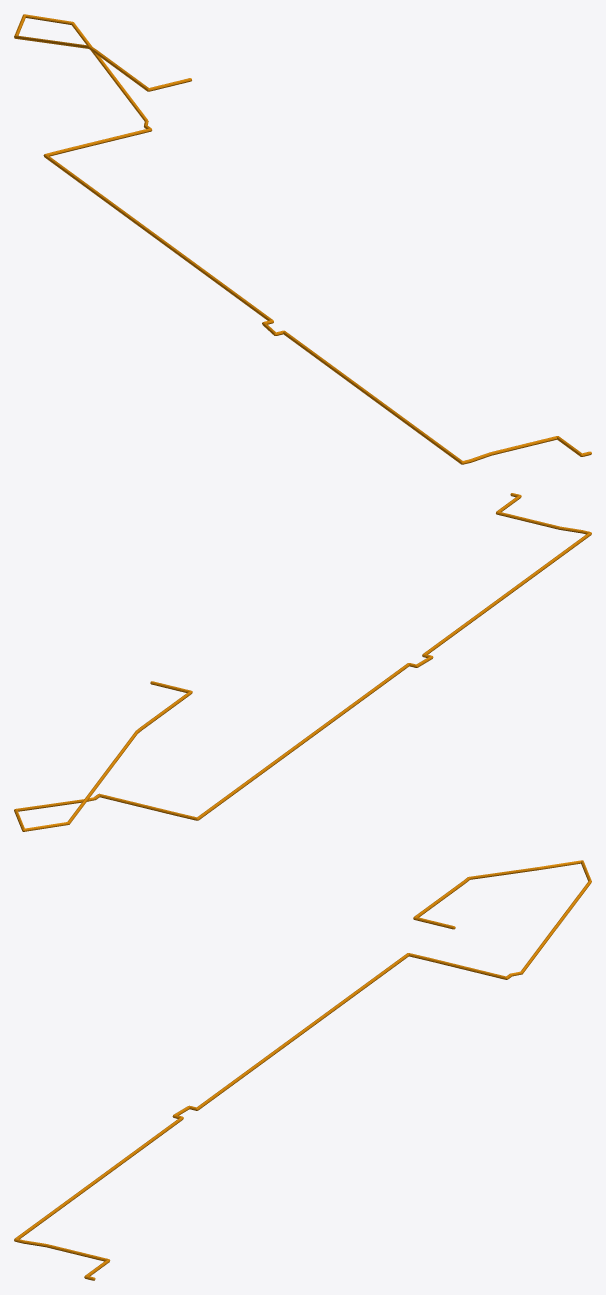
The picture shows the model from 3 angles, top to bottom: view 1: azimuth 30°, elevation 25°; view 2: azimuth 150°, elevation 25°; view 3: azimuth 330°, elevation 25°; orthographic projection. The views are drawn at different scales.
Size of the model in its own units: 749 by 520 by 5666.
